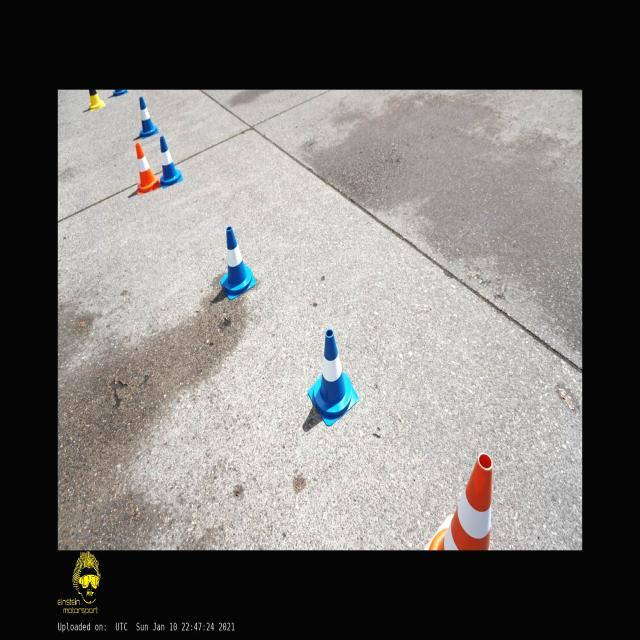blue_cone: (308, 329, 358, 427), (220, 227, 256, 300), (160, 136, 182, 188), (140, 97, 158, 139)
large_orange_cone: (423, 452, 492, 550)
orange_cone: (135, 143, 159, 194)
yellow_cone: (88, 90, 105, 110)
